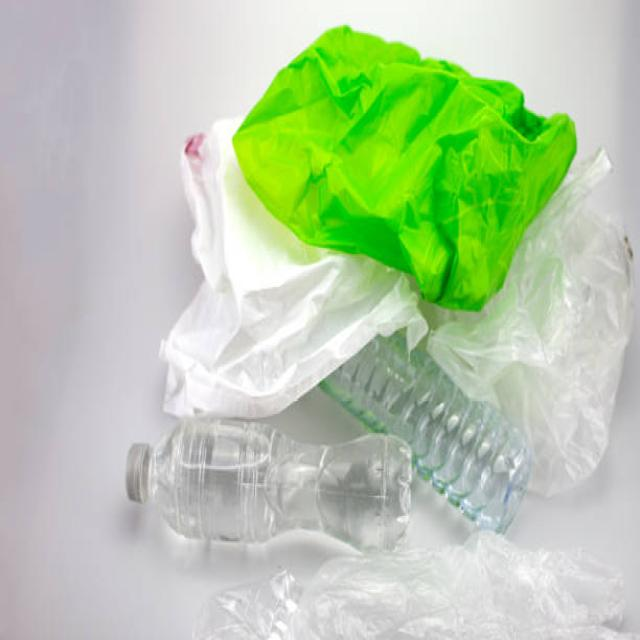plastic: (188, 63, 505, 350), (127, 426, 408, 540)
